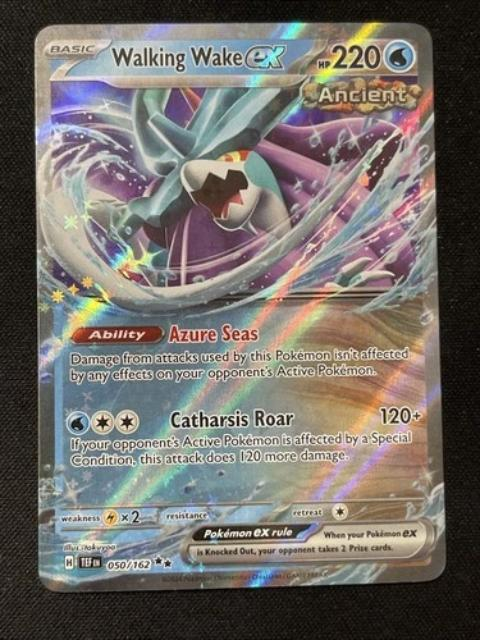Card: (28, 17, 447, 595)
Name: (104, 37, 289, 72)
